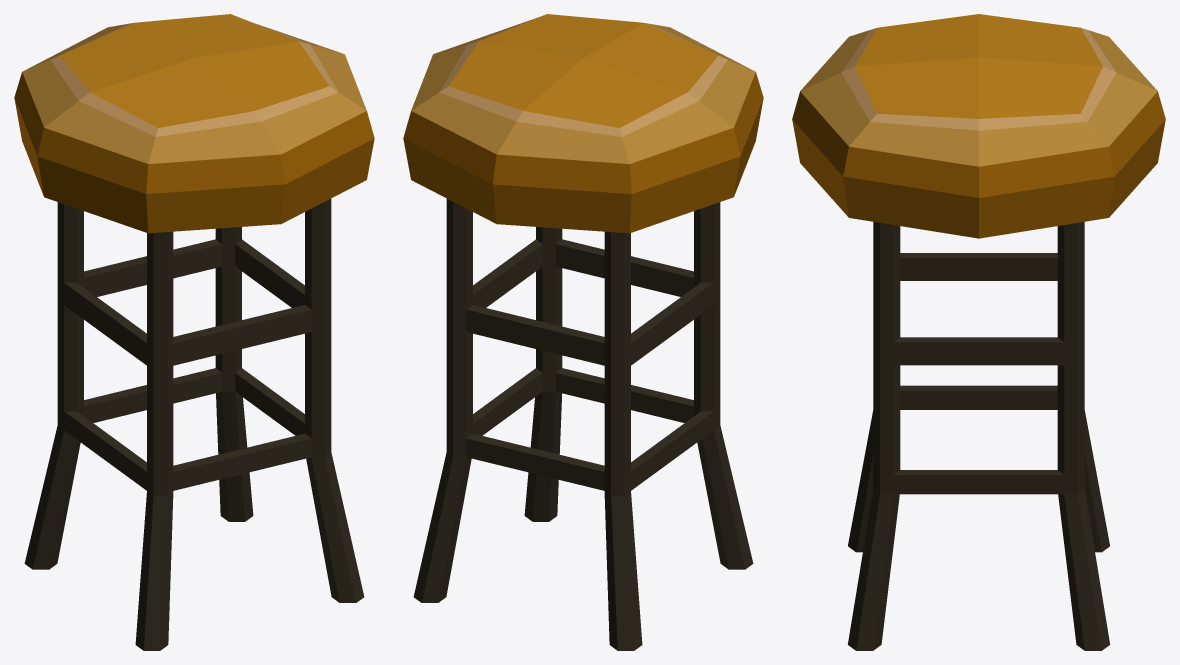
Rendered from Bar Stool.fbx.
3 views of the same model, side by side, from view 1: azimuth 30°, elevation 25°; view 2: azimuth 150°, elevation 25°; view 3: azimuth 270°, elevation 25° (orthographic). The views are drawn at different scales.
Visible parts, largest first — view 1: Bar Stool; view 2: Bar Stool; view 3: Bar Stool.
Part boxes in pixels (x1,y1,x2,y2): Bar Stool: (14, 14, 374, 650); Bar Stool: (403, 14, 763, 650); Bar Stool: (792, 14, 1165, 650).
Bounding box in the file's own units: 2.24 × 3.56 × 2.24.
